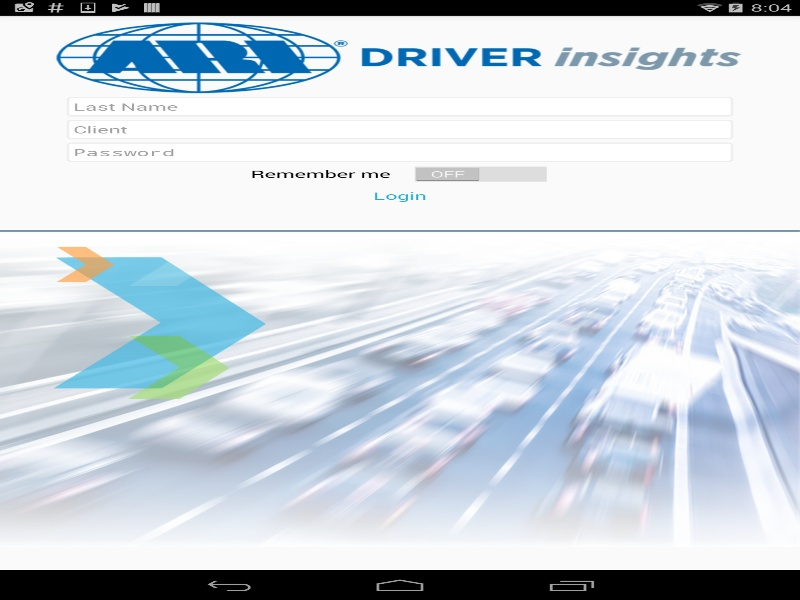Input: (66, 96, 733, 116), (66, 119, 733, 139), (66, 142, 733, 162)
